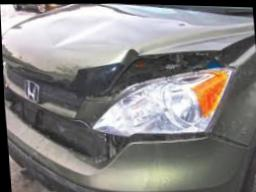Bonnet: (1, 4, 254, 124)
Bumper: (5, 87, 249, 192)
